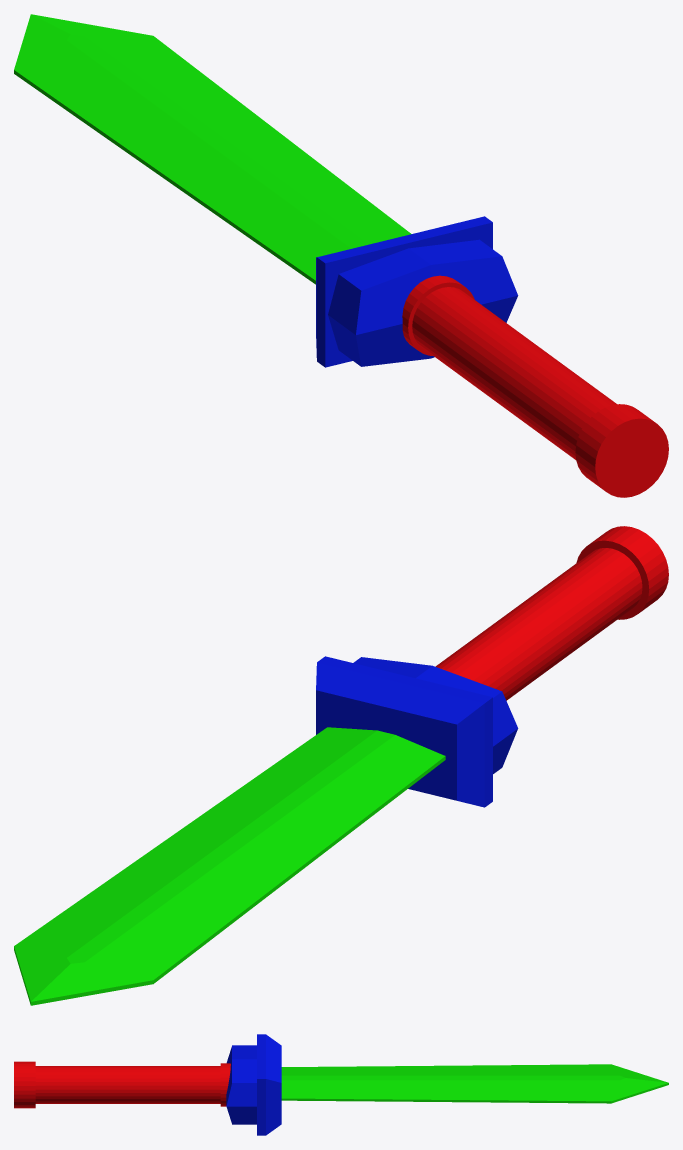
The model's file is Sword_3.fbx.
3 views of the same model, one above another, from view 1: azimuth 30°, elevation 25°; view 2: azimuth 150°, elevation 25°; view 3: azimuth 270°, elevation 25° (orthographic). The views are drawn at different scales.
Visible parts, largest first — view 1: Blade-sword-3, Handle-sword-3, Parierstange-sword-3; view 2: Blade-sword-3, Parierstange-sword-3, Handle-sword-3; view 3: Blade-sword-3, Handle-sword-3, Parierstange-sword-3.
Boxes of the visible parts, bbox=[...] form: Blade-sword-3: bbox=[14, 14, 411, 284]; Handle-sword-3: bbox=[402, 275, 668, 497]; Parierstange-sword-3: bbox=[316, 216, 518, 367]; Blade-sword-3: bbox=[14, 727, 445, 1005]; Parierstange-sword-3: bbox=[316, 656, 518, 807]; Handle-sword-3: bbox=[435, 526, 668, 700]; Blade-sword-3: bbox=[281, 1064, 668, 1103]; Handle-sword-3: bbox=[14, 1061, 230, 1108]; Parierstange-sword-3: bbox=[226, 1034, 281, 1135].
Size of the model in its own units: 37.68 by 22.38 by 234.
